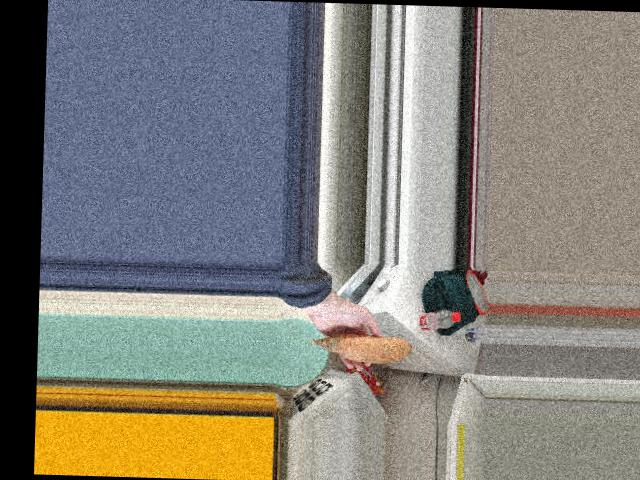sweet_potato: (332, 327, 420, 363)
